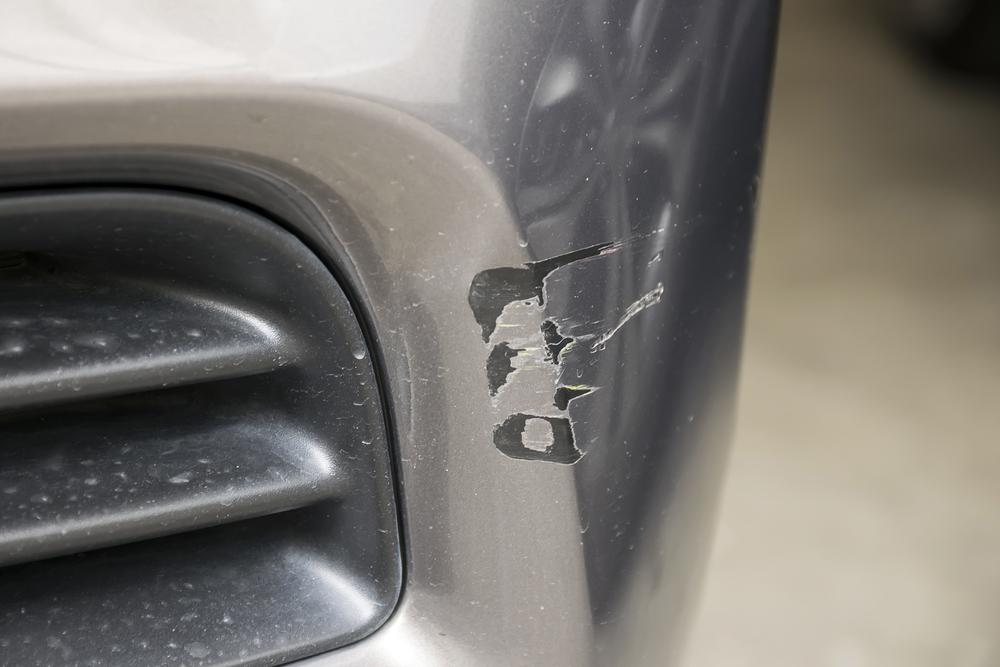scratch: (467, 228, 674, 466)
